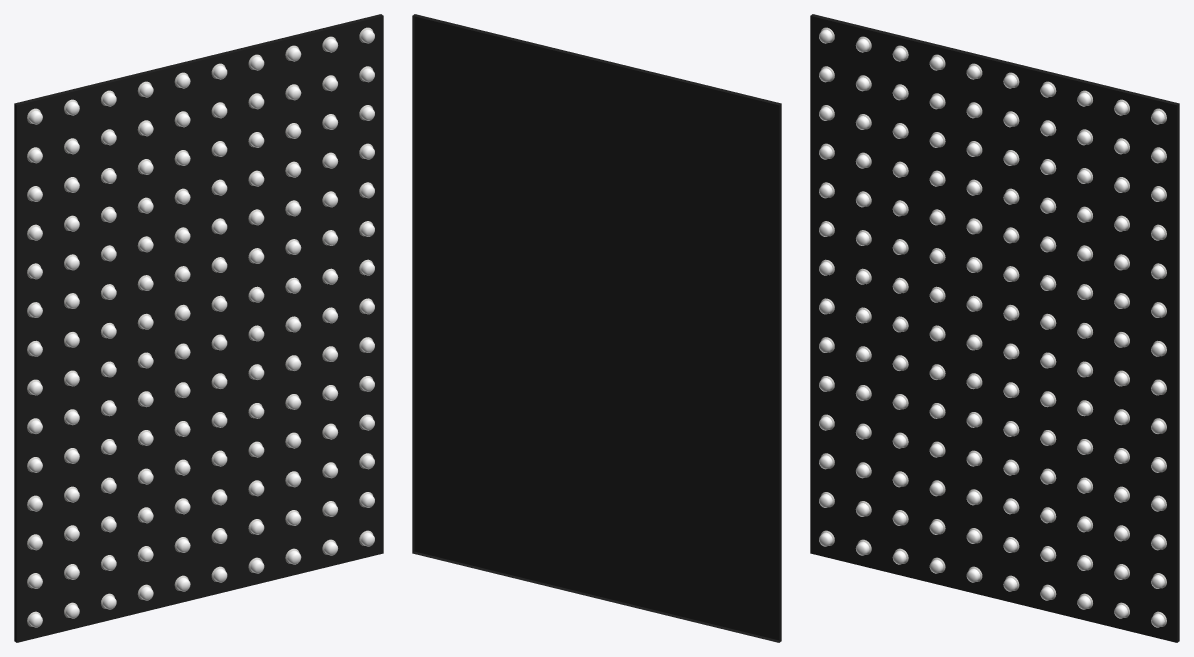
File: PanelLight01.FBX
The picture shows the model from 3 angles, left to right: view 1: azimuth 30°, elevation 25°; view 2: azimuth 150°, elevation 25°; view 3: azimuth 330°, elevation 25°; orthographic projection.
Parts seen in each view (by area): view 1: PanelLight01; view 2: PanelLight01; view 3: PanelLight01.
Boxes of the visible parts, bbox=[...] form: PanelLight01: bbox=[14, 14, 383, 642]; PanelLight01: bbox=[412, 14, 781, 642]; PanelLight01: bbox=[810, 14, 1179, 642].
Size of the model in its own units: 2.5 by 3.5 by 0.0831.
